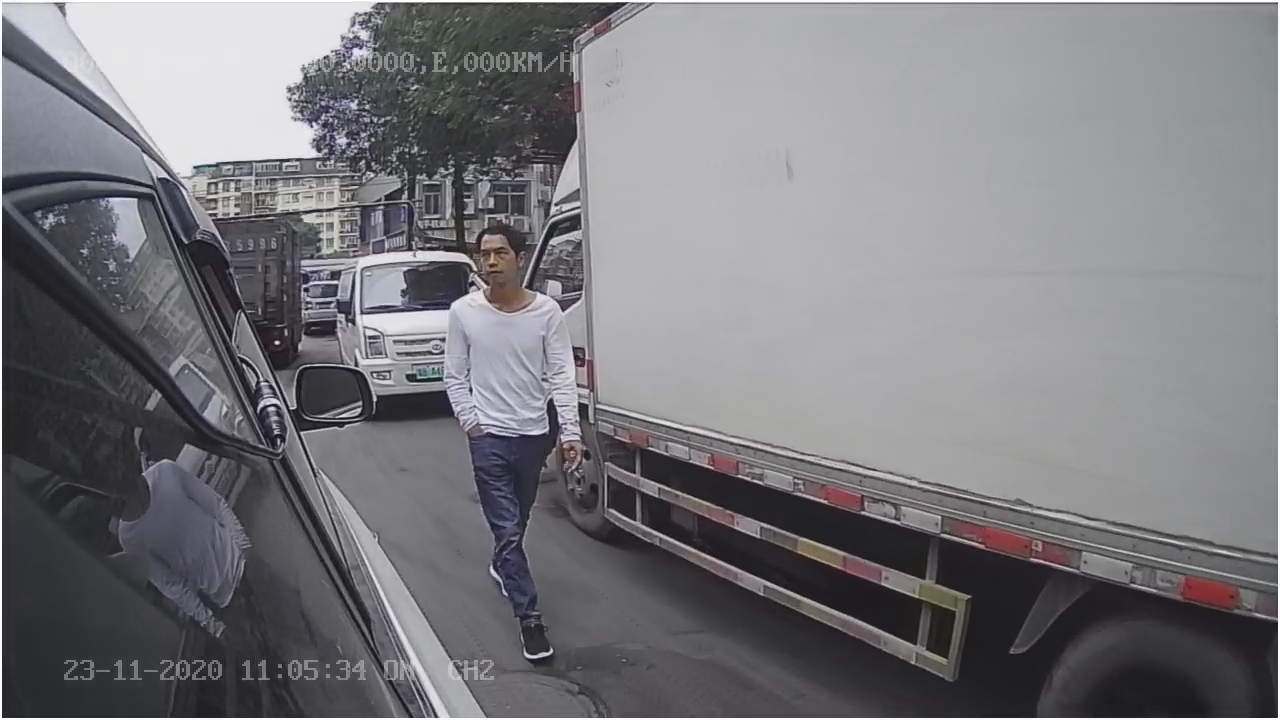person: (436, 223, 580, 658)
